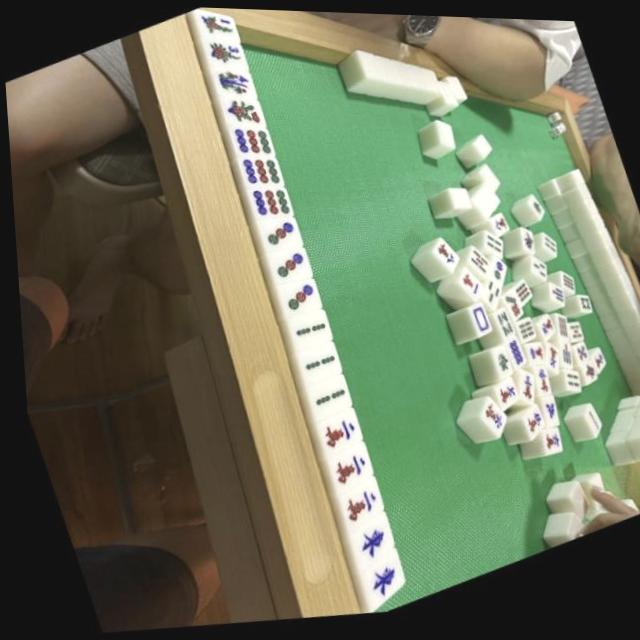hwe: (353, 560, 404, 610), (346, 526, 393, 571)
sb2: (284, 315, 330, 355), (304, 382, 350, 422), (295, 349, 339, 386)
sc2: (332, 484, 381, 532), (324, 451, 370, 495), (313, 418, 361, 460)
sd3: (263, 248, 311, 293), (273, 281, 320, 322), (254, 219, 300, 259)
sd9: (224, 120, 278, 169), (243, 182, 294, 231), (236, 152, 284, 198)
